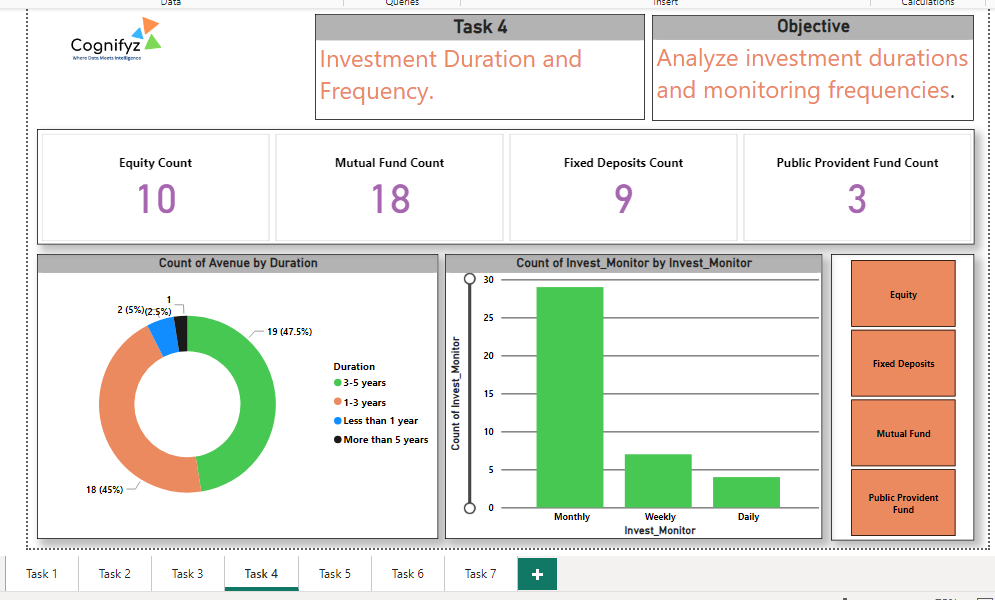

The page's visual inventory and layout, read from the dashboard file:
{"tool":"powerbi","page":{"name":"Task 4","canvas":[1280,720],"ordinal":3},"visuals":[{"type":"textbox","title":"Task 4","box":[382.4,8.6,439.5,141.3],"z":0},{"type":"textbox","title":"Objective","box":[832,9.3,429.3,141.3],"z":1000},{"type":"donutChart","fields":{"Category":["Data_set 2.Duration"],"Y":["CountNonNull(Data_set 2.Avenue)"]},"box":[11.4,328.2,535.1,379.6],"z":2000},{"type":"slicer","title":"Avenue","fields":{"Values":["Data_set 2.Avenue"]},"box":[1070.2,328.2,191.2,382.4],"z":3000},{"type":"clusteredColumnChart","fields":{"Category":["Data_set 2.Invest_Monitor"],"Y":["CountNonNull(Data_set 2.Invest_Monitor)"]},"box":[556,328,502.7,380],"z":4000},{"type":"cardVisual","fields":{"Data":["Data_set 2.Equity Count","Data_set 2.Mutual Fund Count","Data_set 2.Fixed Deposits Count","Data_set 2.Public Provident Fund Count"]},"box":[11.4,161.2,1250,154.1],"z":5000},{"type":"image","box":[0,0,231.2,91.3],"z":6000}]}

Visuals, with their boxes on the page's 1280x720 design canvas (x1, y1, x2, y2). These are canvas units, not pixel positions in the 995x600 screenshot, which may show the page scaled, cropped or inside an application window:
"Task 4" textbox: Rect(382, 9, 822, 150)
"Objective" textbox: Rect(832, 9, 1261, 151)
donutChart - Data_set 2.Duration x CountNonNull(Data_set 2.Avenue): Rect(11, 328, 546, 708)
"Avenue" slicer: Rect(1070, 328, 1261, 711)
clusteredColumnChart - Data_set 2.Invest_Monitor x CountNonNull(Data_set 2.Invest_Monitor): Rect(556, 328, 1059, 708)
cardVisual - Data_set 2.Equity Count x Data_set 2.Mutual Fund Count: Rect(11, 161, 1261, 315)
image: Rect(0, 0, 231, 91)
